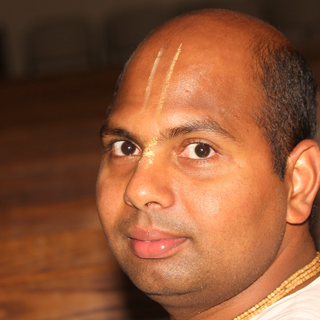eye: (168, 135, 223, 164), (100, 136, 145, 162)
